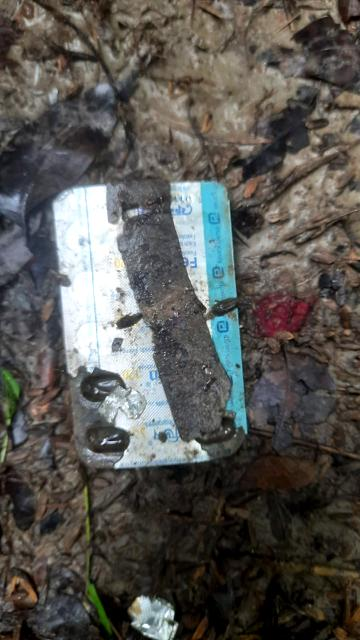medicine: (45, 177, 251, 464)
